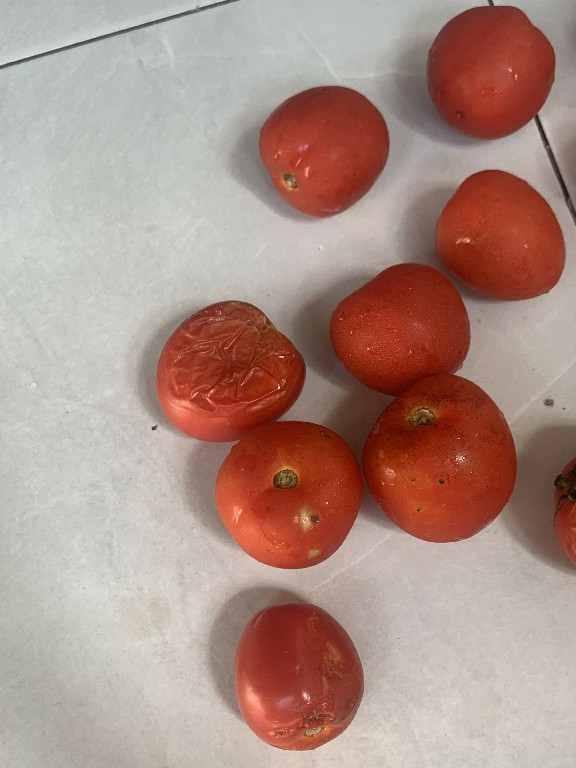NG: (355, 375, 534, 554), (208, 419, 372, 584), (144, 298, 320, 448), (225, 595, 372, 763)
OK: (420, 159, 569, 311), (326, 248, 476, 393), (417, 2, 565, 147), (245, 80, 383, 216)
